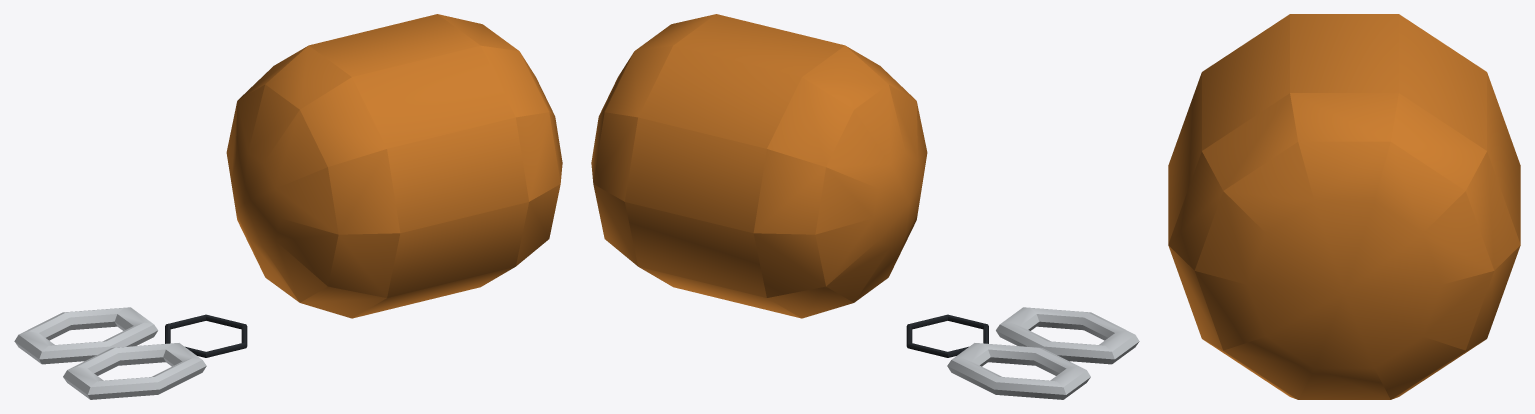
Rendered from hammock_camping_packed.mid.glb.
3 views of the same model, side by side, from view 1: azimuth 30°, elevation 25°; view 2: azimuth 150°, elevation 25°; view 3: azimuth 270°, elevation 25° (orthographic). The views are drawn at different scales.
Parts seen in each view (by area): view 1: hammock_camping_packed; view 2: hammock_camping_packed; view 3: hammock_camping_packed.
Boxes of the visible parts, x1,y1,x2,y2 form: hammock_camping_packed: [14, 14, 562, 399]; hammock_camping_packed: [591, 14, 1139, 399]; hammock_camping_packed: [1168, 14, 1520, 399].
Size of the model in its own units: 0.2536 by 0.1239 by 0.127.
